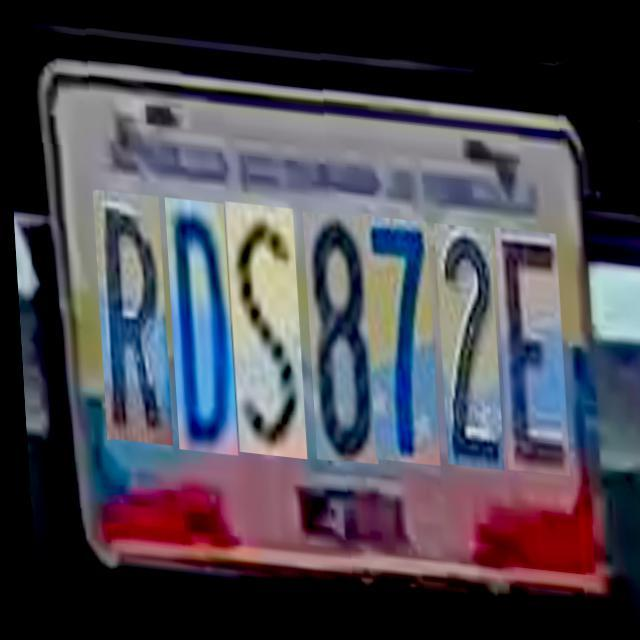2: (432, 213, 499, 459)
7: (360, 207, 435, 456)
8: (300, 203, 373, 456)
D: (162, 192, 232, 450)
E: (492, 216, 565, 463)
R: (90, 186, 168, 441)
S: (223, 195, 302, 451)
